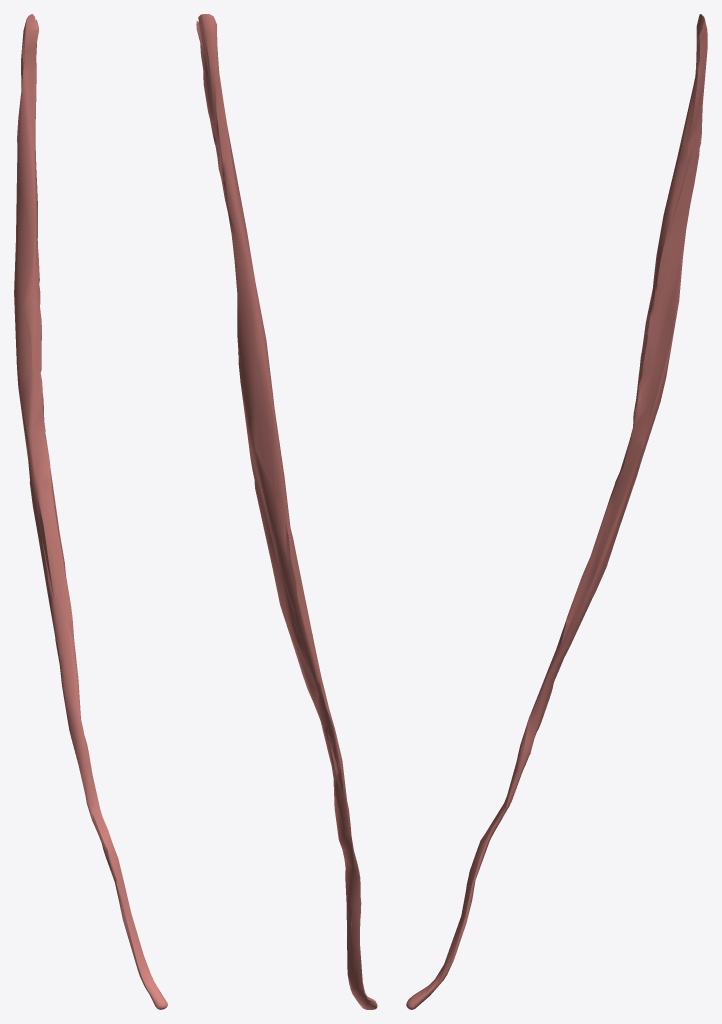
The model's file is fma38504_fj1491.glb.
The picture shows the model from 3 angles, left to right: view 1: azimuth 30°, elevation 25°; view 2: azimuth 150°, elevation 25°; view 3: azimuth 270°, elevation 25°; orthographic projection. The views are drawn at different scales.
Visible parts, largest first — view 1: FMA38504_FJ1491; view 2: FMA38504_FJ1491; view 3: FMA38504_FJ1491.
Boxes of the visible parts, box(x1,y1,x2,y2) form: FMA38504_FJ1491: box(14, 14, 167, 1009); FMA38504_FJ1491: box(196, 14, 377, 1009); FMA38504_FJ1491: box(406, 14, 707, 1009).
Bounding box in the file's own units: 0.0162 × 0.325 × 0.0893.
